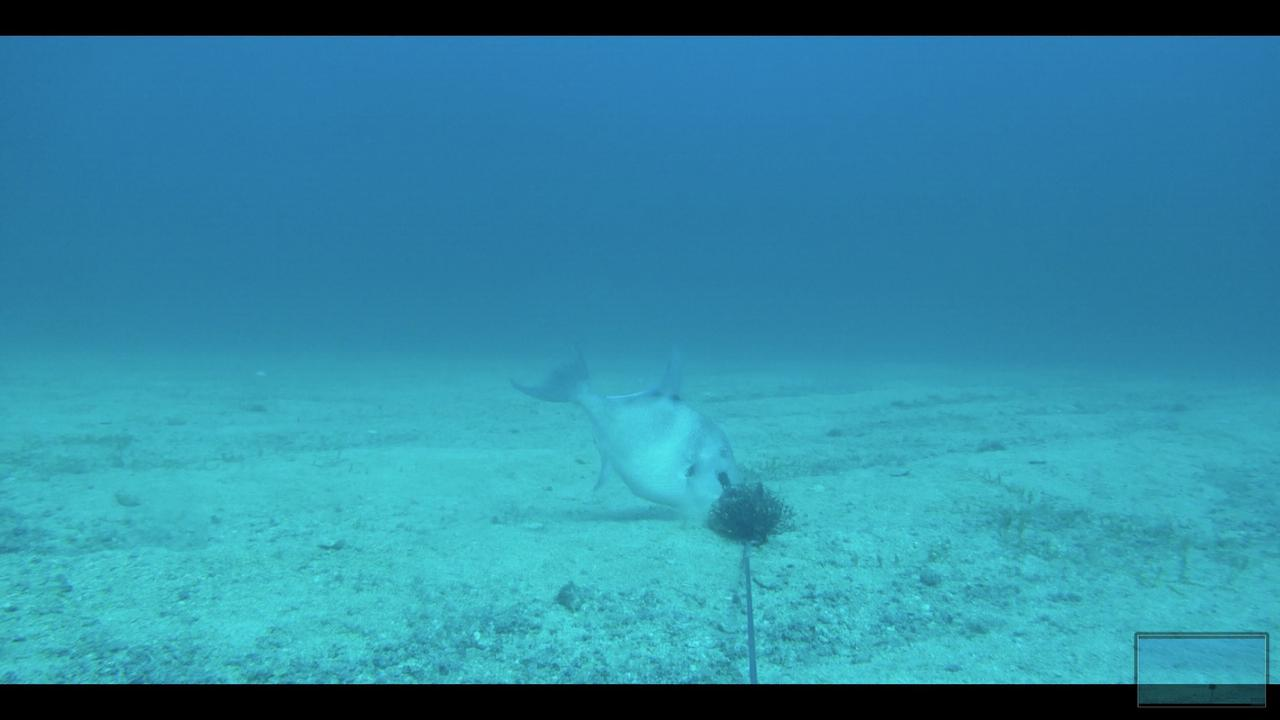balistes: (494, 317, 750, 512)
